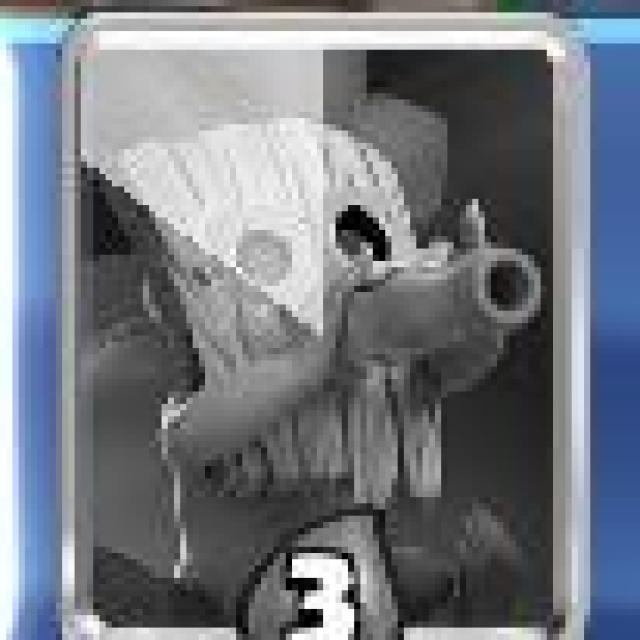Dart_Goblin: (53, 5, 591, 640)
